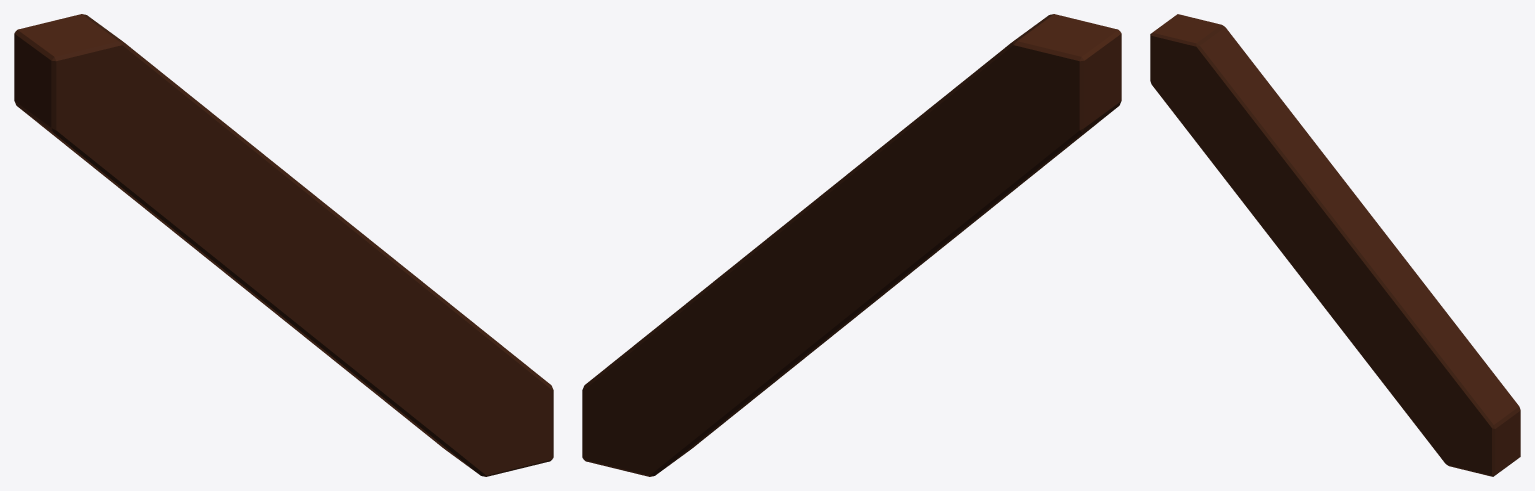
Rendered from A17_Wood_Brace_1m.fbx.
3 views of the same model, side by side, from view 1: azimuth 30°, elevation 25°; view 2: azimuth 150°, elevation 25°; view 3: azimuth 330°, elevation 25° (orthographic). The views are drawn at different scales.
Visible parts, largest first — view 1: A17_Wood_Brace_1m; view 2: A17_Wood_Brace_1m; view 3: A17_Wood_Brace_1m.
Part boxes in pixels (bbox=[...]): A17_Wood_Brace_1m: bbox=[14, 14, 553, 476]; A17_Wood_Brace_1m: bbox=[582, 14, 1121, 476]; A17_Wood_Brace_1m: bbox=[1150, 14, 1520, 476].
Bounding box in the file's own units: 1 × 1 × 0.14.
Materials: 1 (1 with a texture image).
